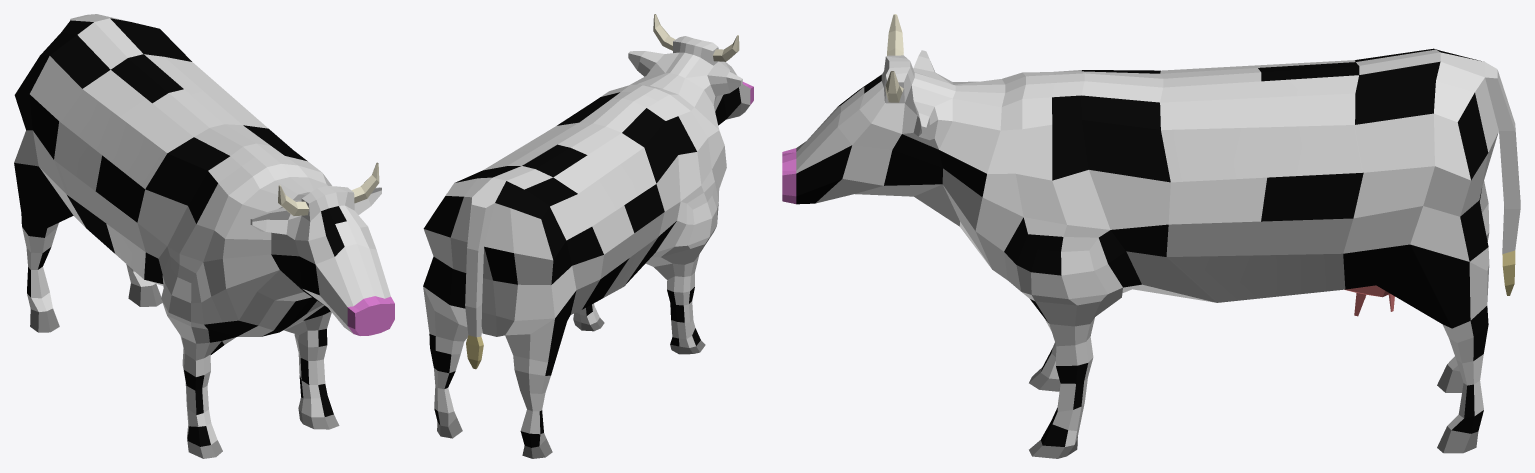
File: Ushi-Chan.fbx
3 views of the same model, side by side, from view 1: azimuth 30°, elevation 25°; view 2: azimuth 150°, elevation 25°; view 3: azimuth 270°, elevation 25° (orthographic). The views are drawn at different scales.
Visible parts, largest first — view 1: Ushi_Chan; view 2: Ushi_Chan; view 3: Ushi_Chan.
Part boxes in pixels (bbox=[...]): Ushi_Chan: bbox=[14, 14, 394, 458]; Ushi_Chan: bbox=[423, 14, 753, 458]; Ushi_Chan: bbox=[782, 14, 1520, 458].
Size of the model in its own units: 3.71 by 6.28 by 11.23.
